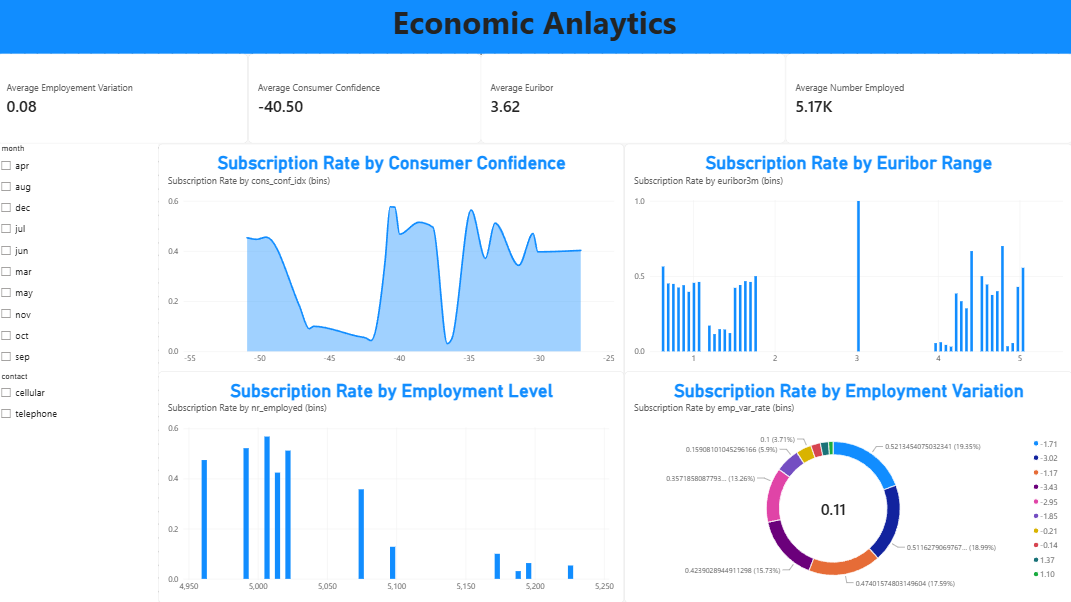

The dashboard page shown, as its layout file describes it:
{"tool":"powerbi","page":{"name":"Economics Analytics ","canvas":[1920,1080],"ordinal":3},"visuals":[{"type":"textbox","box":[0,0,1920,96],"z":0},{"type":"cardVisual","fields":{"Data":["bank_marketing.Average Employement Variation"]},"box":[0,96,448,160],"z":1000},{"type":"cardVisual","fields":{"Data":["bank_marketing.Average Consumer Confidence"]},"box":[448,96,416,160],"z":2000},{"type":"cardVisual","fields":{"Data":["bank_marketing.Average Euribor"]},"box":[864,96,544,160],"z":3000},{"type":"cardVisual","fields":{"Data":["bank_marketing.Average Number Employed"]},"box":[1408,96,512,160],"z":4000},{"type":"clusteredColumnChart","title":"Subscription Rate by Euribor Range","fields":{"Category":["bank_marketing.euribor3m (bins)"],"Y":["bank_marketing.Subscription Rate"]},"box":[1120,256,800,416],"z":5000},{"type":"areaChart","title":"Subscription Rate by Consumer Confidence","fields":{"Category":["bank_marketing.cons_conf_idx (bins)"],"Y":["bank_marketing.Subscription Rate"]},"box":[288,256,832,416],"z":6000},{"type":"donutChart","title":"Subscription Rate by Employment Variation","fields":{"Category":["bank_marketing.emp_var_rate (bins)"],"Y":["bank_marketing.Subscription Rate"]},"box":[1120,664,800,416],"z":7000},{"type":"clusteredColumnChart","title":"Subscription Rate by Employment Level","fields":{"Category":["bank_marketing.nr_employed (bins)"],"Y":["bank_marketing.Subscription Rate"]},"box":[288,664,832,416],"z":8000},{"type":"slicer","fields":{"Values":["bank_marketing.month"]},"box":[0,256,288,416],"z":9000},{"type":"slicer","fields":{"Values":["bank_marketing.contact"]},"box":[0,664,288,416],"z":10000}]}

Visuals, with their boxes in screenshot pixels (x1, y1, x2, y2), scaled from the page's 1920x1080 canvas onto the 1071x602 screenshot:
textbox: (x1=0, y1=0, x2=1070, y2=54)
cardVisual - bank_marketing.Average Employement Variation: (x1=0, y1=54, x2=250, y2=143)
cardVisual - bank_marketing.Average Consumer Confidence: (x1=250, y1=54, x2=482, y2=143)
cardVisual - bank_marketing.Average Euribor: (x1=482, y1=54, x2=785, y2=143)
cardVisual - bank_marketing.Average Number Employed: (x1=785, y1=54, x2=1070, y2=143)
"Subscription Rate by Euribor Range" clusteredColumnChart: (x1=625, y1=143, x2=1070, y2=375)
"Subscription Rate by Consumer Confidence" areaChart: (x1=161, y1=143, x2=625, y2=375)
"Subscription Rate by Employment Variation" donutChart: (x1=625, y1=370, x2=1070, y2=601)
"Subscription Rate by Employment Level" clusteredColumnChart: (x1=161, y1=370, x2=625, y2=601)
slicer - bank_marketing.month: (x1=0, y1=143, x2=161, y2=375)
slicer - bank_marketing.contact: (x1=0, y1=370, x2=161, y2=601)
